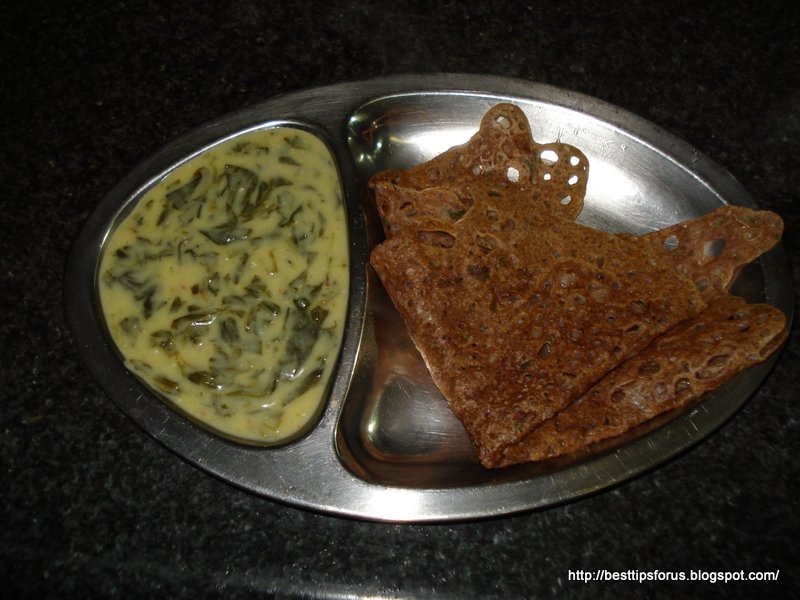dosa: (360, 89, 800, 477)
